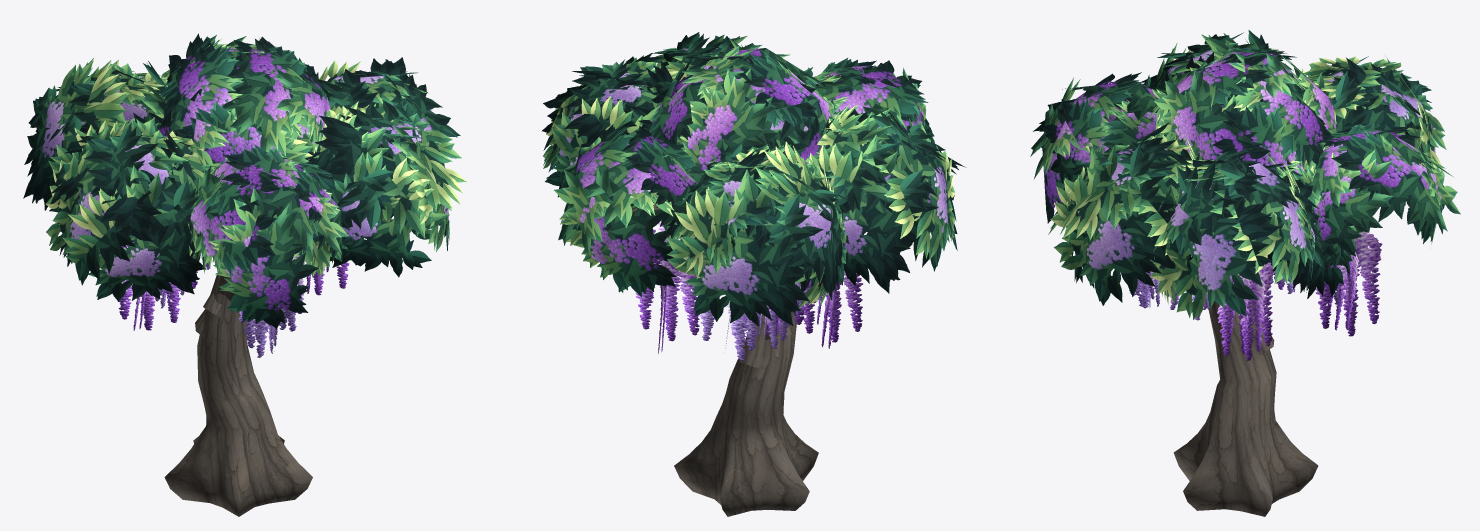
The model's file is tree_bloom_weeping.glb.
The picture shows the model from 3 angles, left to right: view 1: azimuth 30°, elevation 25°; view 2: azimuth 150°, elevation 25°; view 3: azimuth 270°, elevation 25°; orthographic projection.
Parts seen in each view (by area): view 1: tree_bloom_weeping; view 2: tree_bloom_weeping; view 3: tree_bloom_weeping.
Part boxes in pixels (x1,y1,x2,y2): tree_bloom_weeping: (23, 33, 466, 516); tree_bloom_weeping: (542, 32, 966, 516); tree_bloom_weeping: (1030, 30, 1460, 516).
Bounding box in the file's own units: 11.63 × 12.24 × 10.92.
Materials: 2 (2 with a texture image).
